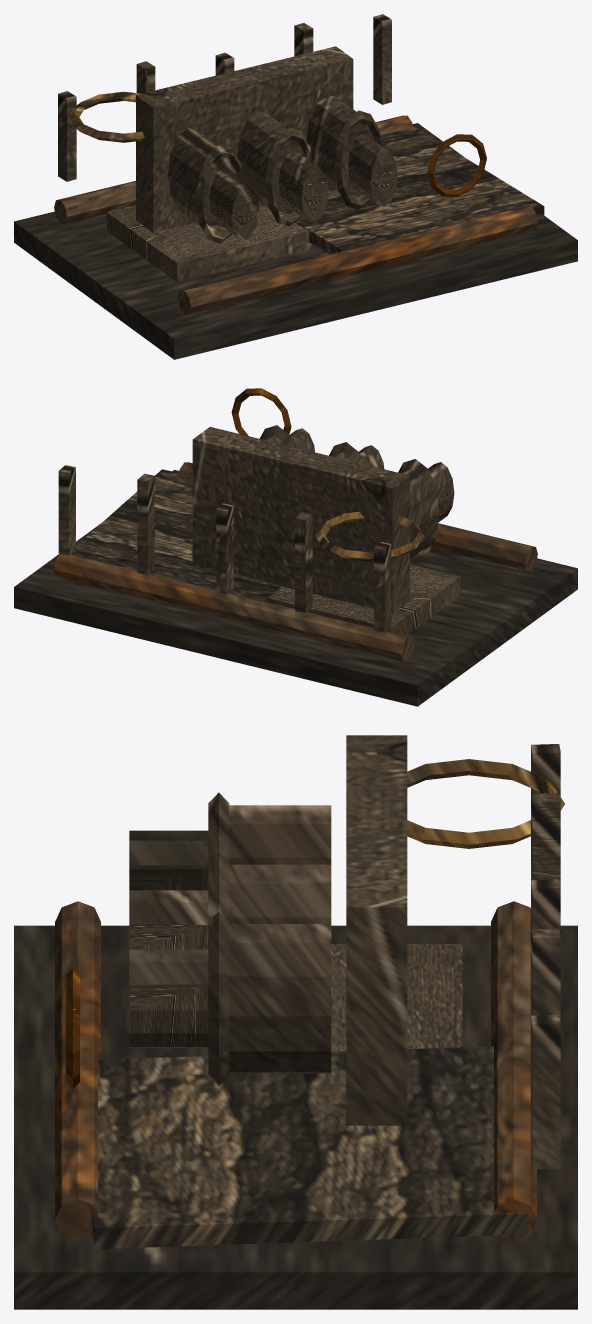
File: cooled-titan-shelf.glb
3 views of the same model, one above another, from view 1: azimuth 30°, elevation 25°; view 2: azimuth 150°, elevation 25°; view 3: azimuth 270°, elevation 25° (orthographic). The views are drawn at different scales.
Visible parts, largest first — view 1: cooled-titan-shelf; view 2: cooled-titan-shelf; view 3: cooled-titan-shelf.
Part boxes in pixels (<box>): cooled-titan-shelf: <box>14,14,577,359</box>; cooled-titan-shelf: <box>14,388,577,706</box>; cooled-titan-shelf: <box>14,735,577,1309</box>.
Size of the model in its own units: 6.4 by 2.5 by 4.4.
1 material, 1 textured.
